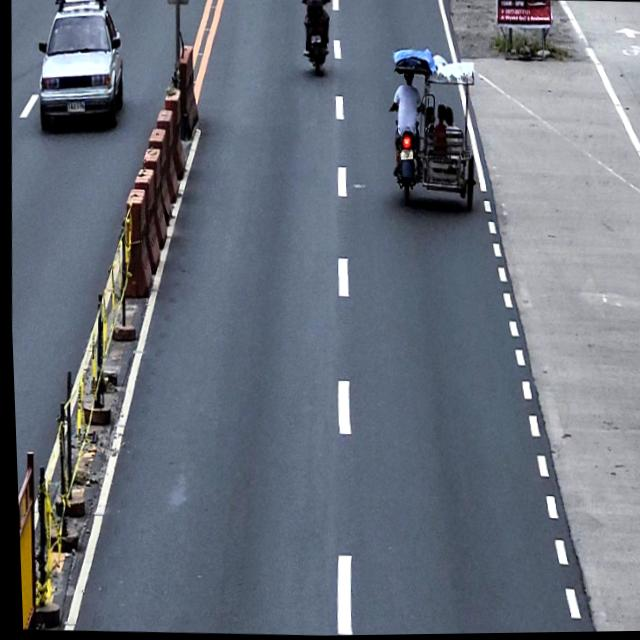Car: (32, 0, 131, 132)
License-Plate: (64, 97, 86, 114), (398, 149, 412, 164), (309, 33, 320, 44)
Motorcycle: (297, 0, 332, 80)
Tricycle: (384, 46, 481, 220)
